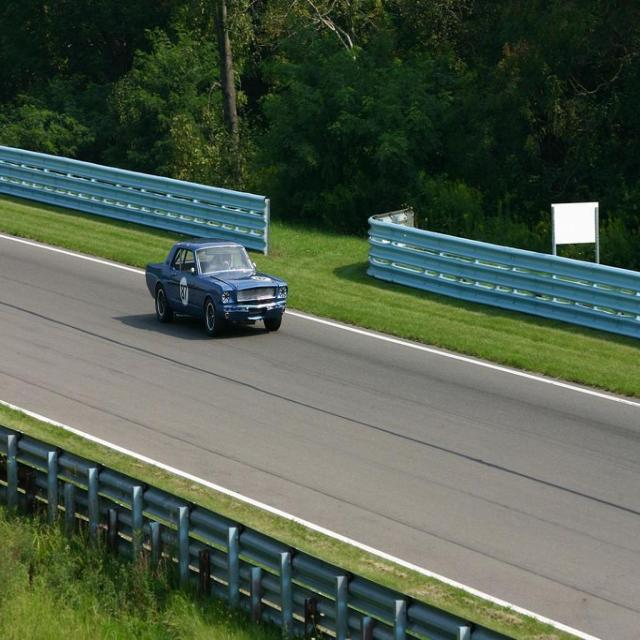car: (147, 237, 286, 339)
